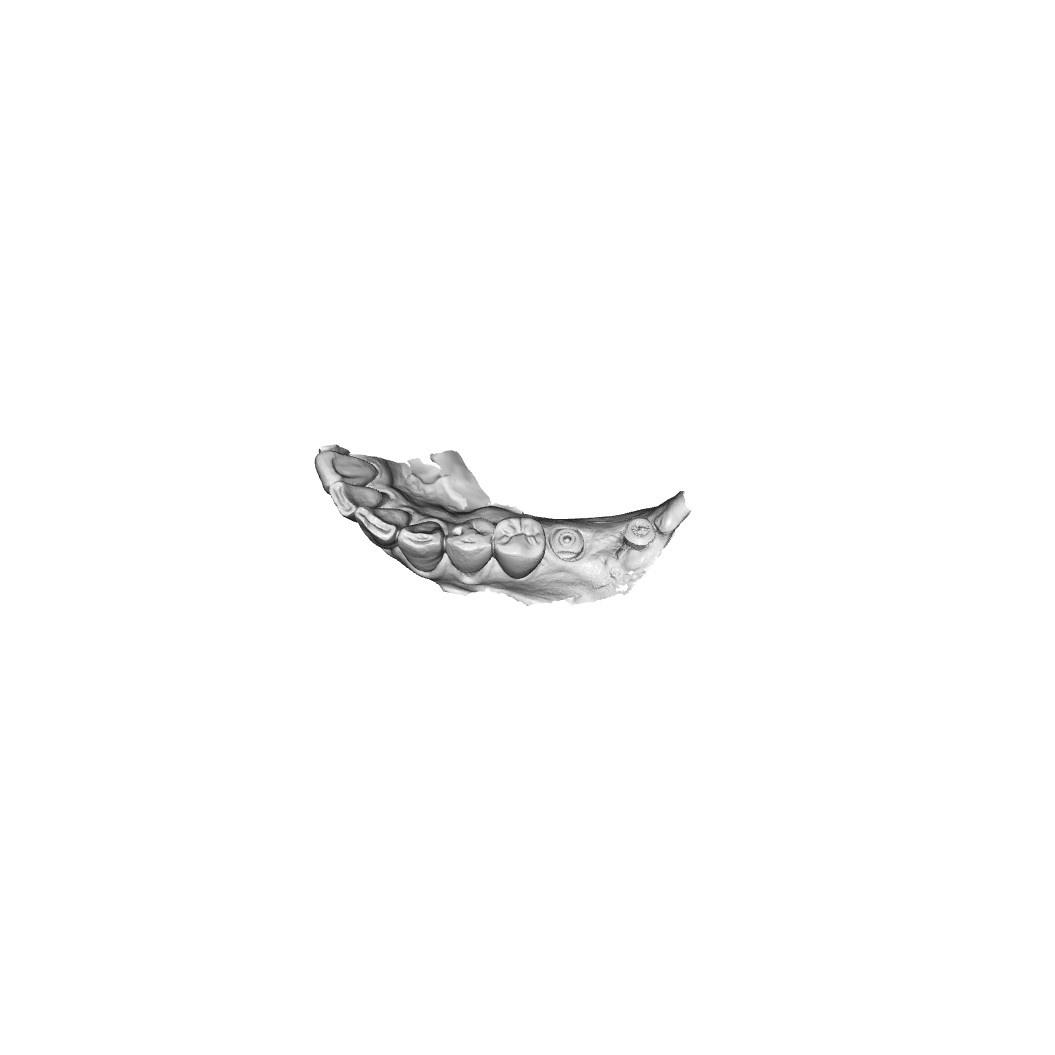canine: (400, 524, 441, 573)
implant: (625, 514, 652, 556), (548, 527, 584, 558)
incisor: (318, 450, 377, 493), (332, 484, 396, 520), (359, 507, 405, 542)
premolar: (446, 515, 495, 578), (492, 519, 545, 575)
